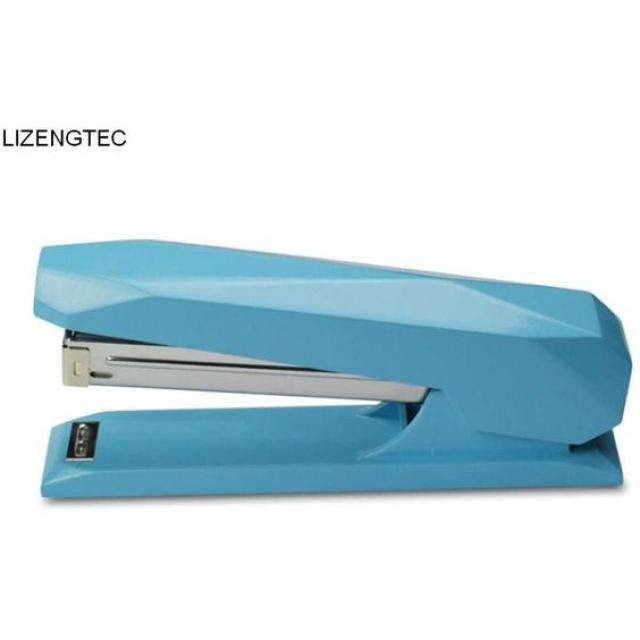Stapler: (0, 210, 640, 506)
